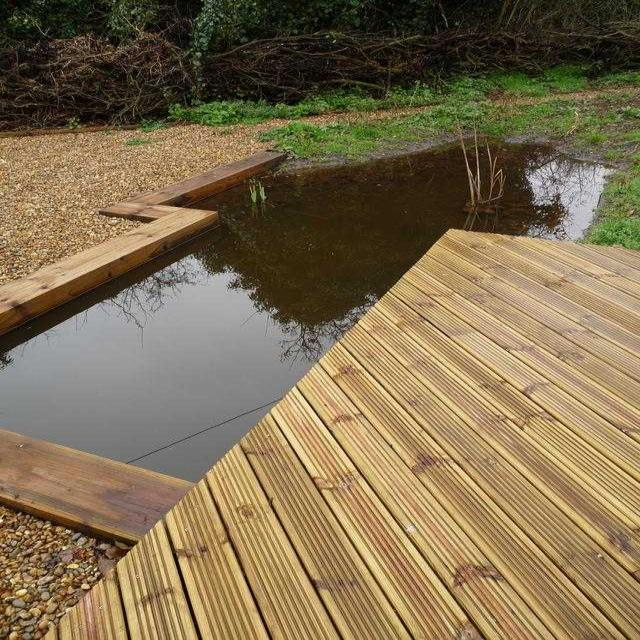Ponds: (1, 140, 609, 557)
